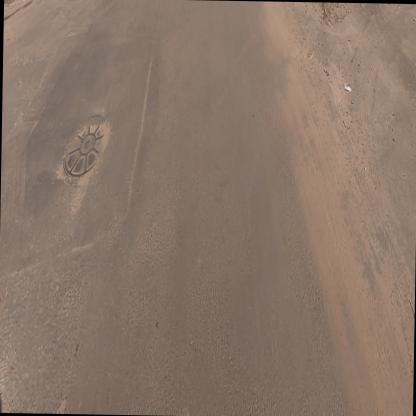manholes: (60, 104, 112, 196)
